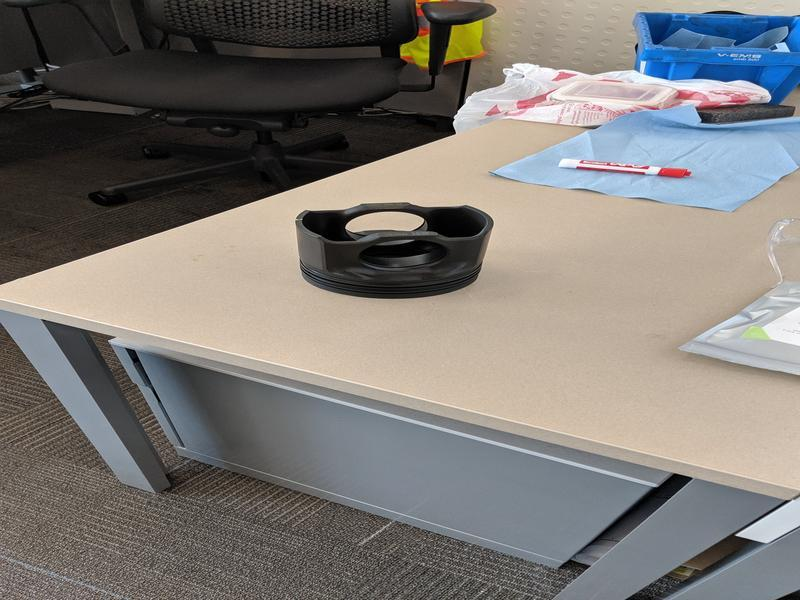piston: (294, 200, 497, 304)
